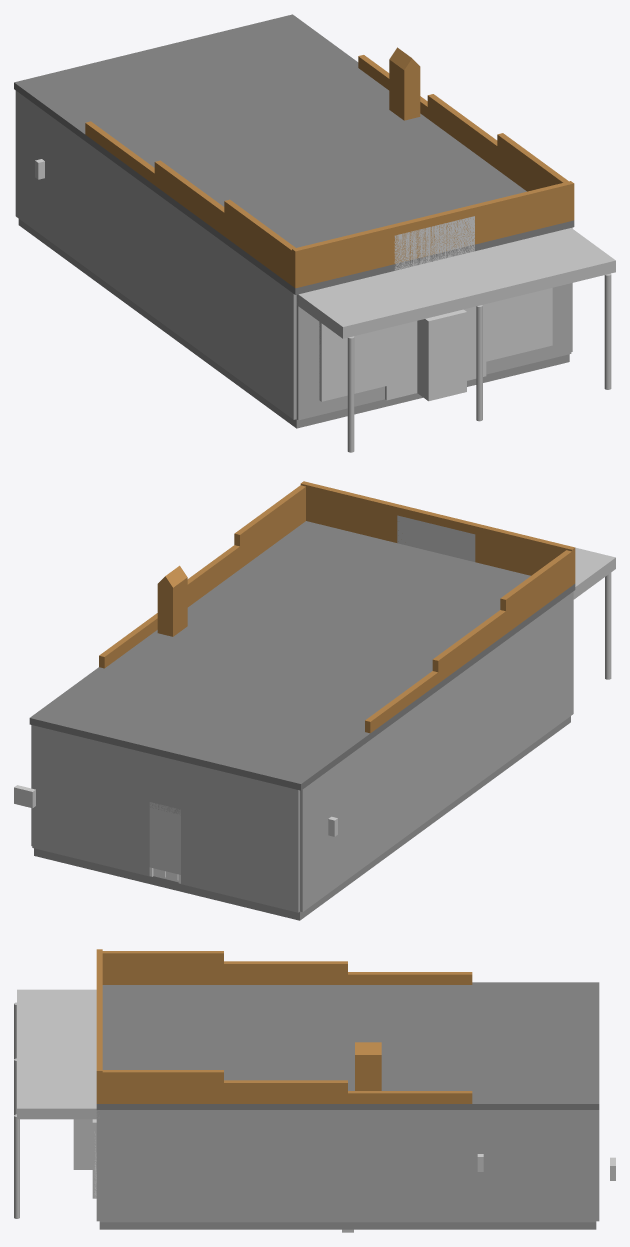
File: building_phase_1b_iter_023.glb
3 views of the same model, one above another, from view 1: azimuth 30°, elevation 25°; view 2: azimuth 150°, elevation 25°; view 3: azimuth 270°, elevation 25° (orthographic). The views are drawn at different scales.
Parts seen in each view (by area): view 1: Roof, Wall_Left, Canopy_Roof, Parapet_Front, Wall_Front, Foundation, front_entry_door_Cutter, front_left_display_window_Cutter, front_right_display_window_Cutter, front_entry_door_Cutter.006, Cutter_front_alcove_opening.001, Parapet_Left_Level_1 (+16 smaller); view 2: Roof, Wall_Left, Wall_Rear, Parapet_Front, Foundation, Parapet_Left_Level_1, Parapet_Right_Level_1, Cutter_front_alcove_opening.001, rear_service_door_Cutter, Parapet_Left_Level_2, Chimney, Parapet_Right_Level_2 (+4 smaller); view 3: Wall_Right, Roof, Canopy_Roof, Parapet_Right_Level_1, Parapet_Left_Level_1, Foundation, Parapet_Left_Level_2, Parapet_Right_Level_2, Parapet_Left_Level_3, Parapet_Right_Level_3, Parapet_Front, front_entry_door_Cutter.006 (+4 smaller).
Part boxes in pixels (x1=…): Roof: x1=14, y1=14, x2=574, y2=294; Wall_Left: x1=15, y1=90, x2=296, y2=419; Canopy_Roof: x1=296, y1=228, x2=615, y2=338; Parapet_Front: x1=292, y1=181, x2=574, y2=288; Wall_Front: x1=296, y1=283, x2=571, y2=420; Foundation: x1=18, y1=219, x2=569, y2=428; front_entry_door_Cutter: x1=417, y1=309, x2=466, y2=391; front_left_display_window_Cutter: x1=319, y1=322, x2=392, y2=392; front_right_display_window_Cutter: x1=483, y1=288, x2=552, y2=352; front_entry_door_Cutter.006: x1=417, y1=322, x2=466, y2=401; Cutter_front_alcove_opening.001: x1=394, y1=216, x2=474, y2=270; Parapet_Left_Level_1: x1=224, y1=199, x2=295, y2=285; Roof: x1=29, y1=521, x2=575, y2=790; Wall_Left: x1=300, y1=591, x2=573, y2=912; Wall_Rear: x1=32, y1=725, x2=299, y2=912; Parapet_Front: x1=300, y1=481, x2=575, y2=585; Foundation: x1=34, y1=716, x2=570, y2=920; Parapet_Left_Level_1: x1=500, y1=550, x2=571, y2=633; Parapet_Right_Level_1: x1=234, y1=485, x2=305, y2=568; Cutter_front_alcove_opening.001: x1=397, y1=515, x2=475, y2=561; rear_service_door_Cutter: x1=149, y1=802, x2=180, y2=874; Parapet_Left_Level_2: x1=432, y1=610, x2=505, y2=683; Chimney: x1=157, y1=577, x2=187, y2=636; Parapet_Right_Level_2: x1=187, y1=545, x2=239, y2=607; Wall_Right: x1=99, y1=1110, x2=596, y2=1222; Roof: x1=96, y1=982, x2=599, y2=1109; Canopy_Roof: x1=17, y1=989, x2=99, y2=1119; Parapet_Right_Level_1: x1=99, y1=1070, x2=223, y2=1103; Parapet_Left_Level_1: x1=102, y1=951, x2=223, y2=984; Foundation: x1=99, y1=1222, x2=596, y2=1229; Parapet_Left_Level_2: x1=224, y1=961, x2=347, y2=984; Parapet_Right_Level_2: x1=224, y1=1080, x2=347, y2=1103; Parapet_Left_Level_3: x1=348, y1=972, x2=472, y2=984; Parapet_Right_Level_3: x1=348, y1=1091, x2=472, y2=1103; Parapet_Front: x1=96, y1=949, x2=102, y2=1103; front_entry_door_Cutter.006: x1=73, y1=1119, x2=92, y2=1169.
Bounding box in the file's own units: 9.1 × 7.52 × 18.18.
